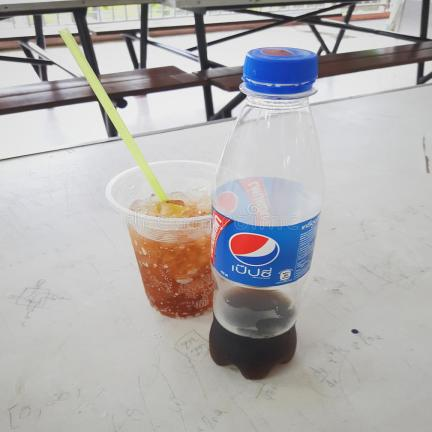container: (211, 98, 323, 379), (106, 161, 214, 318)
fluid: (209, 208, 320, 373), (127, 225, 212, 315)
fluid-surface: (214, 286, 297, 338), (125, 201, 210, 242), (246, 47, 316, 60)
